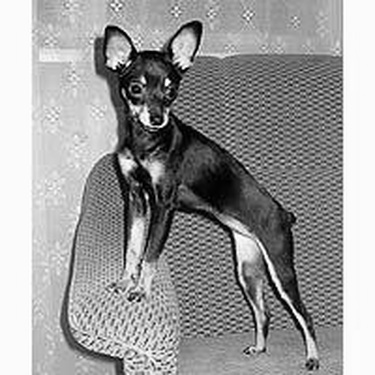dog: (79, 14, 326, 371)
